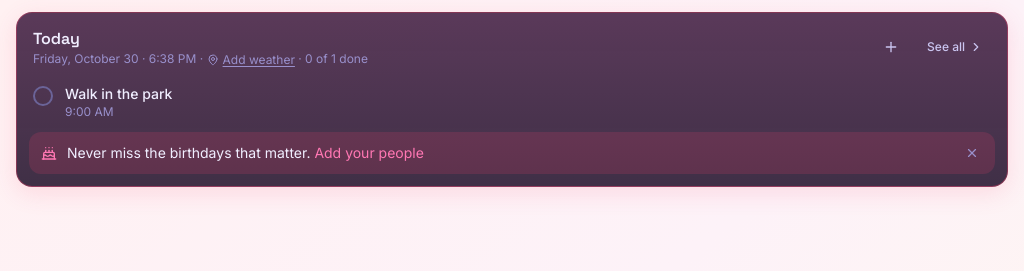
Scenario: TodayCard › mentions Velvet Plus once, after the first thing they tick off, if they are not a member
Later steps or results of the test are not shown.
Click the button named "Mark \"Walk in the park\" done" at (43, 96), box [33,86,53,106]
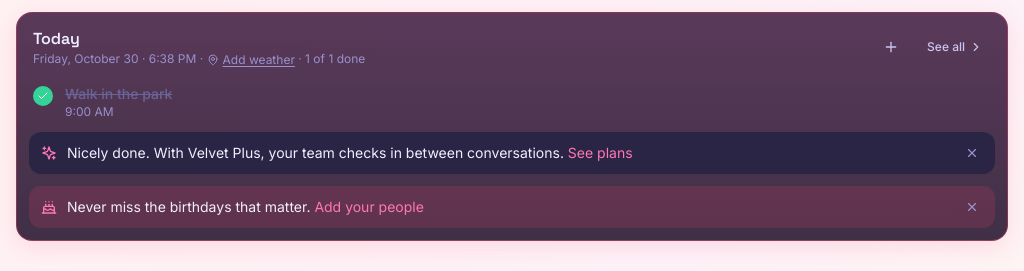
Expected: the button "With Velvet Plus" is shown, [67,143,951,163]
